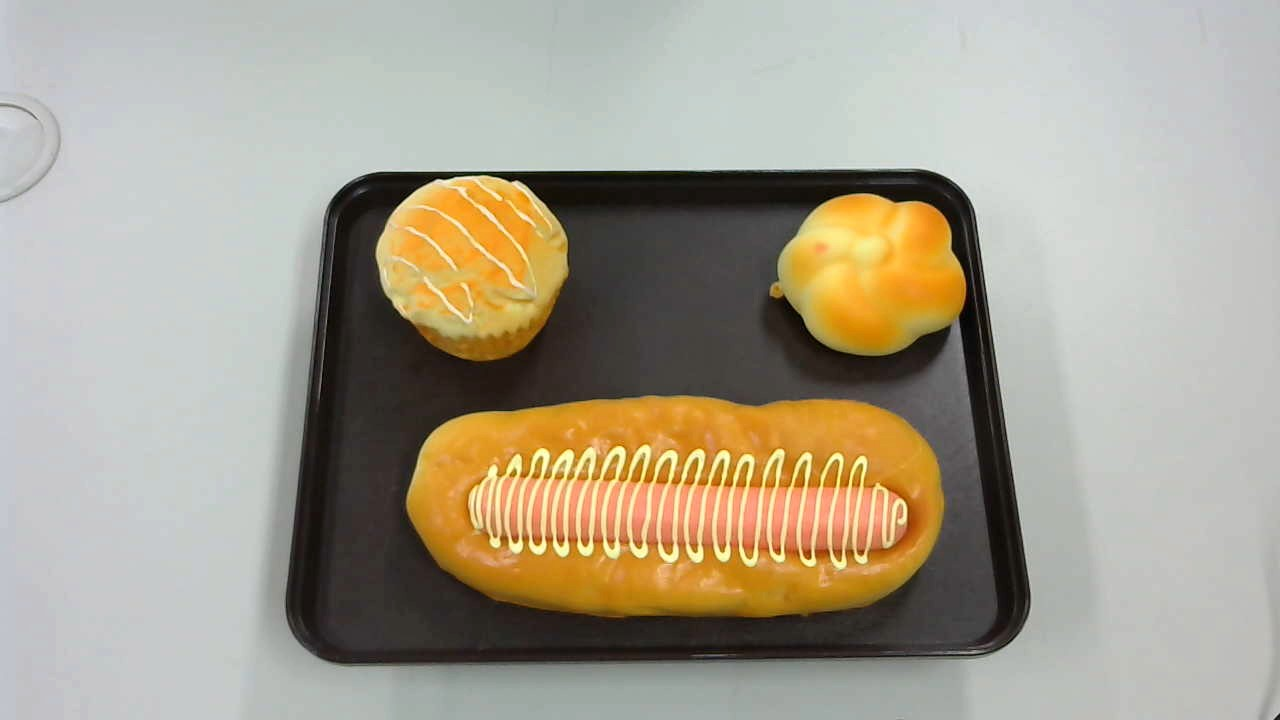croissant: (767, 191, 970, 355)
cupcake: (375, 175, 571, 364)
hot dog: (405, 394, 944, 617)
